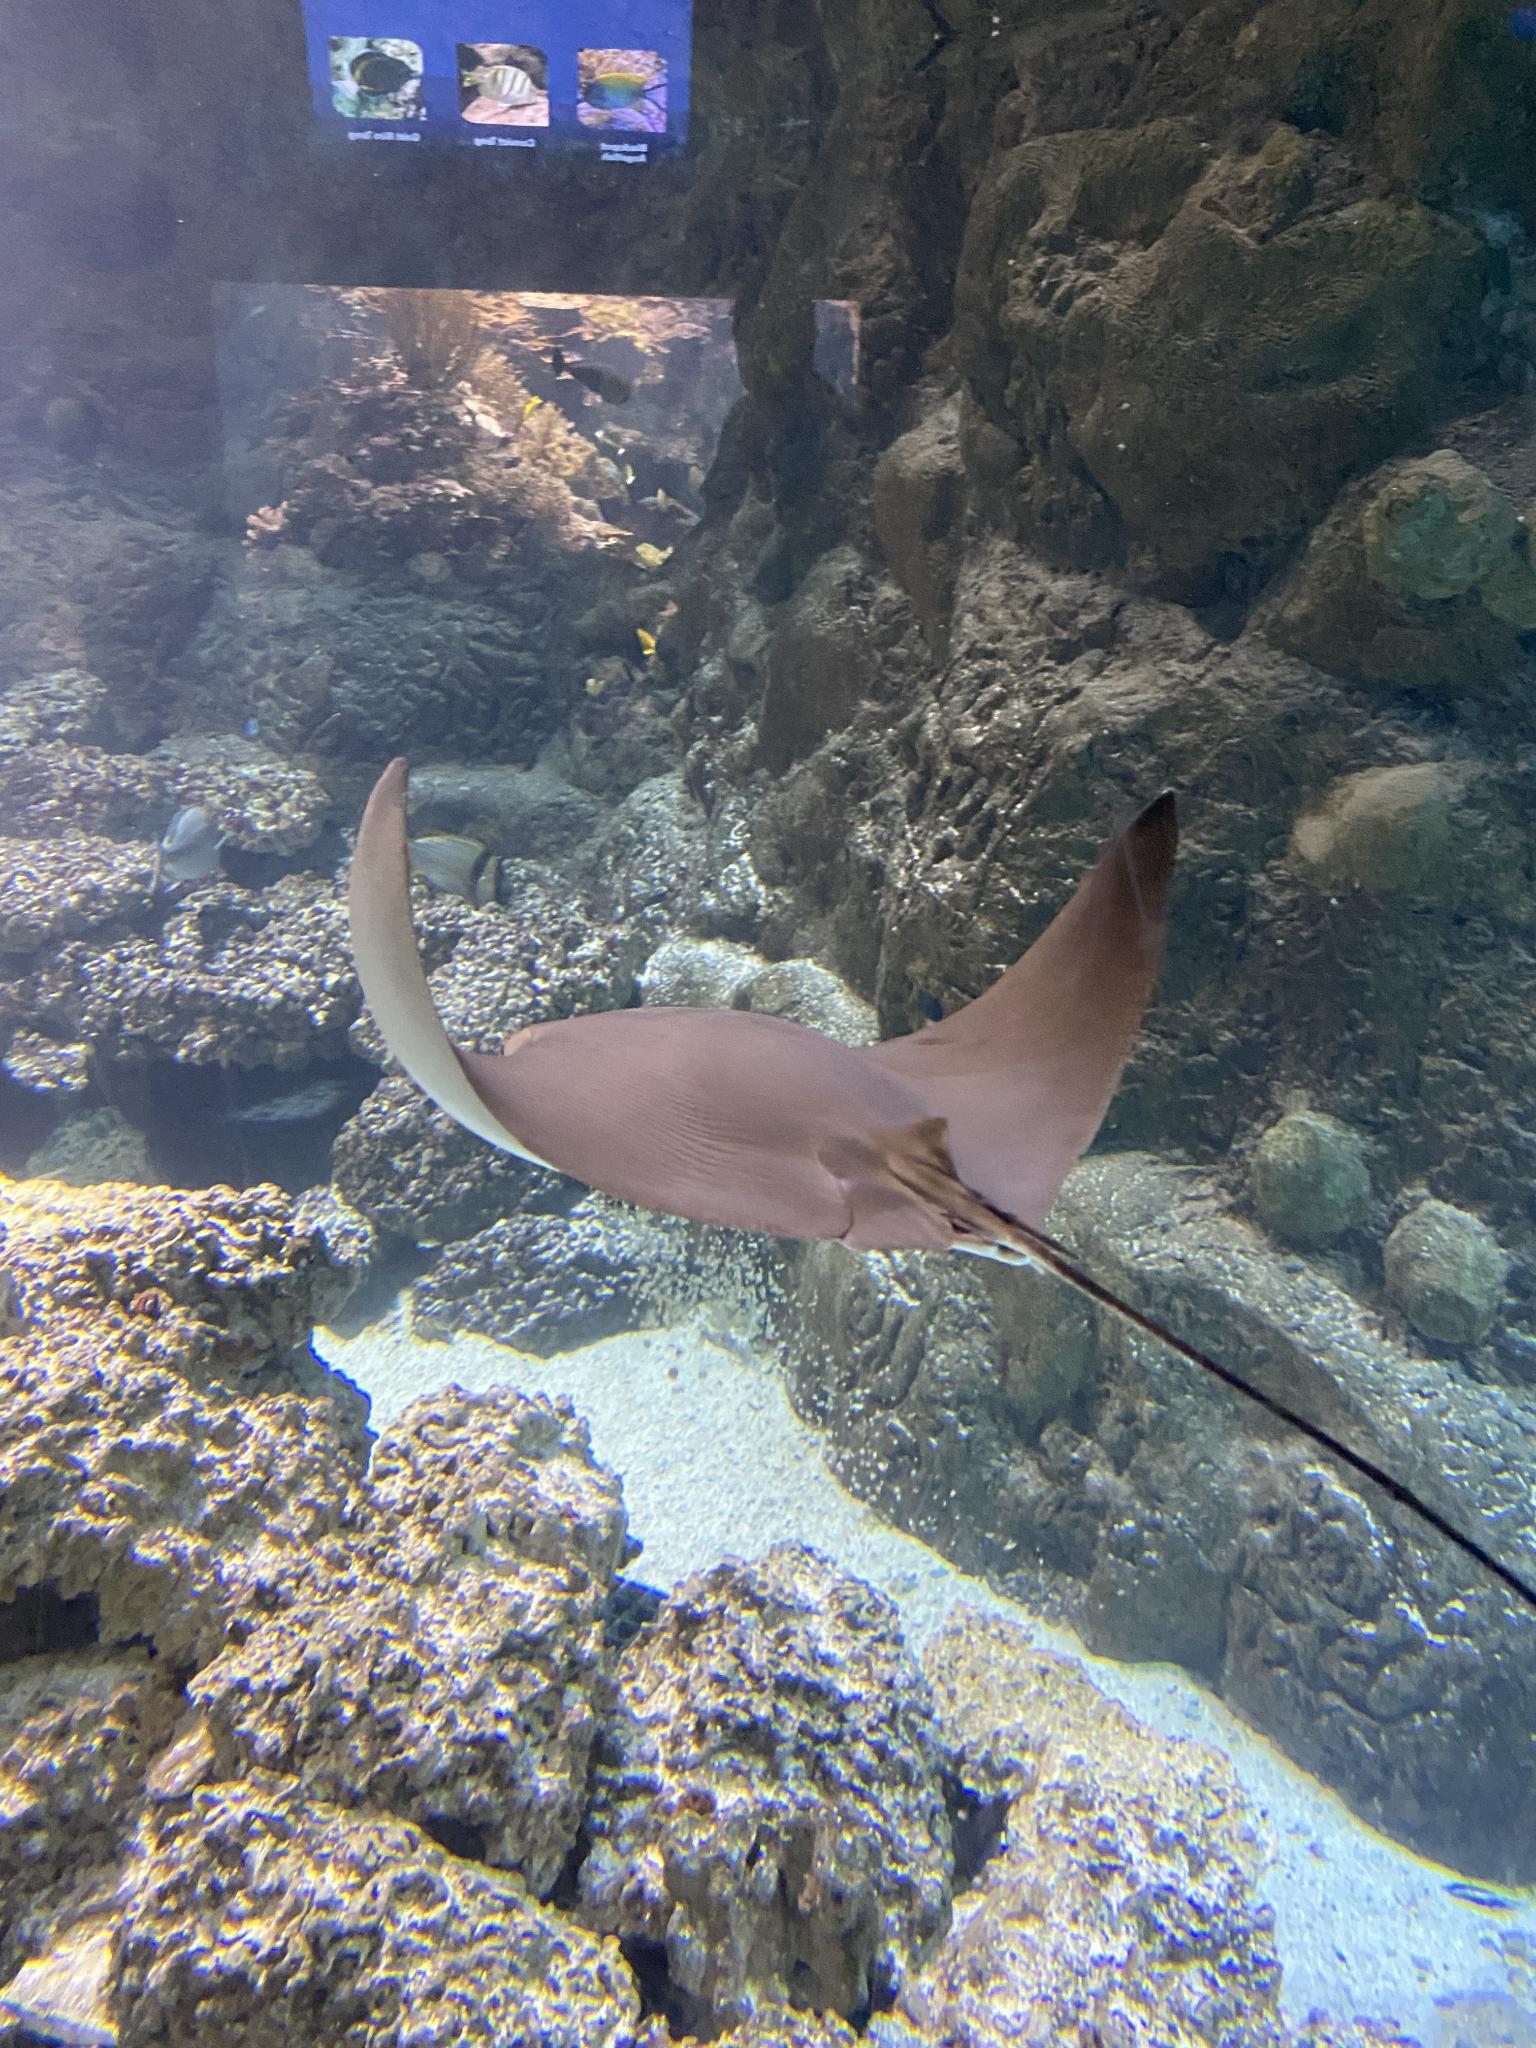stingray: (349, 758, 1181, 1255)
